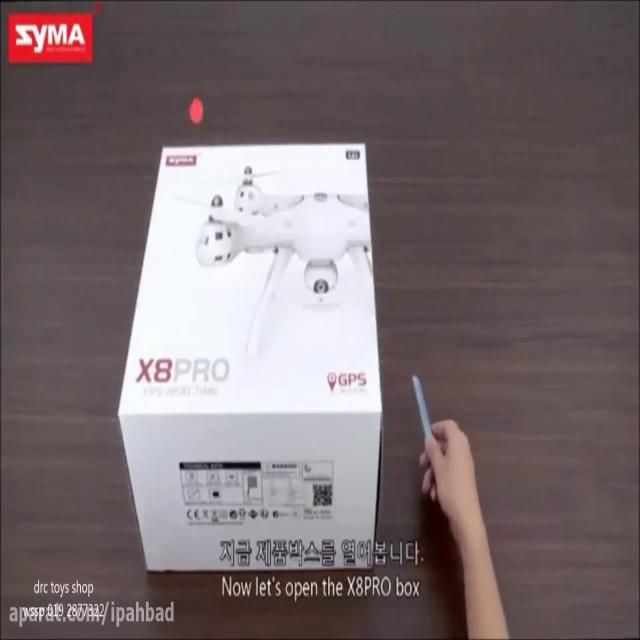drone: (169, 164, 375, 354)
